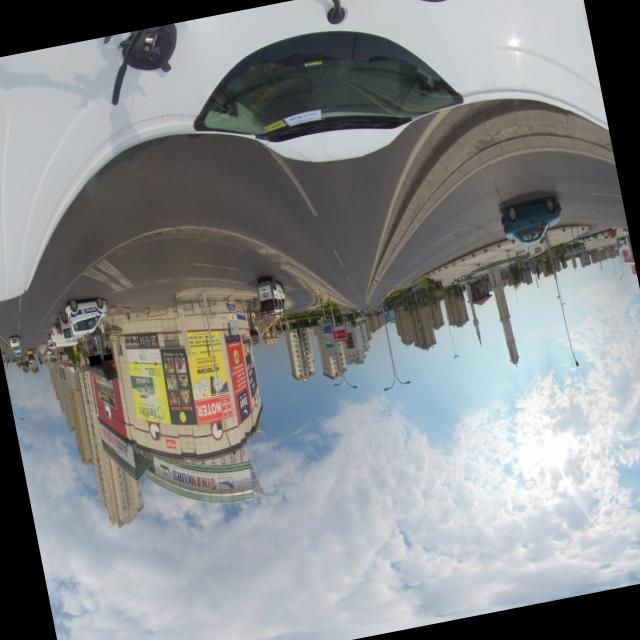SignStore: (88, 356, 100, 363), (102, 354, 112, 359)
